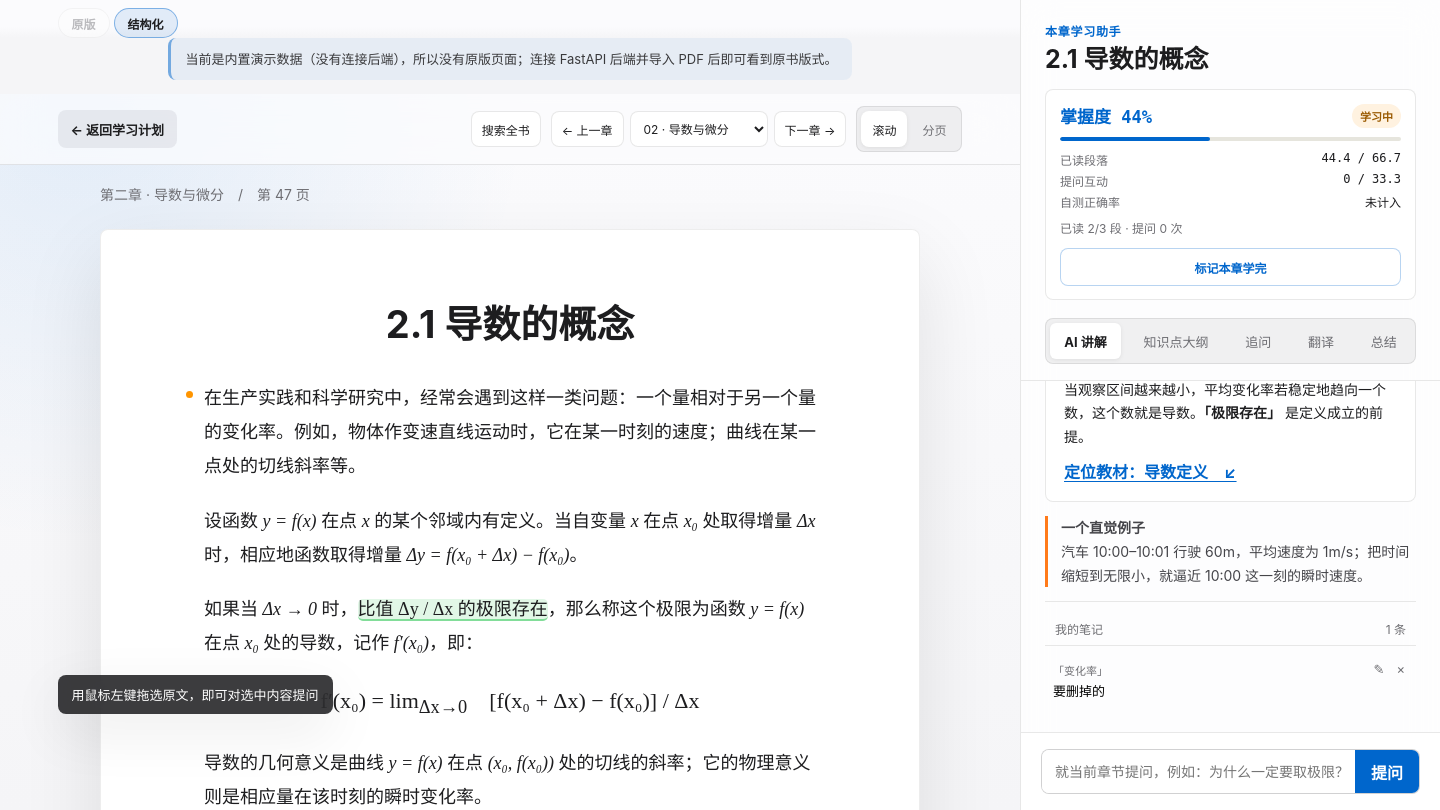
Test: 笔记 › 可以删笔记，删完列表里就没有了
(page scrolled)
What coordinates should you click on to do the following:
click the button named "删除笔记"
I would click on:
 (1401, 669)
Its box is [1391,658,1410,680].
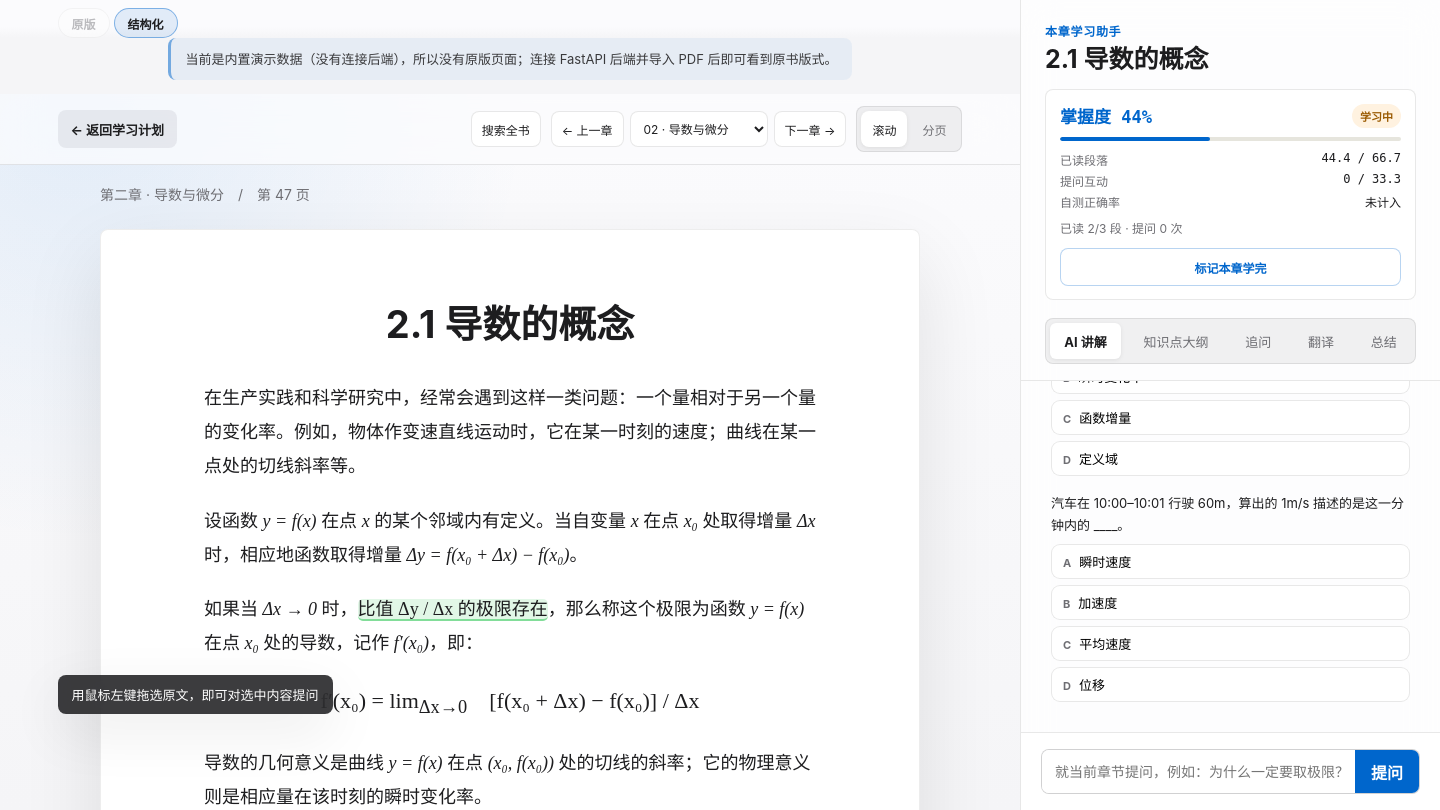
Check: the element with test id "note-list" is gone
